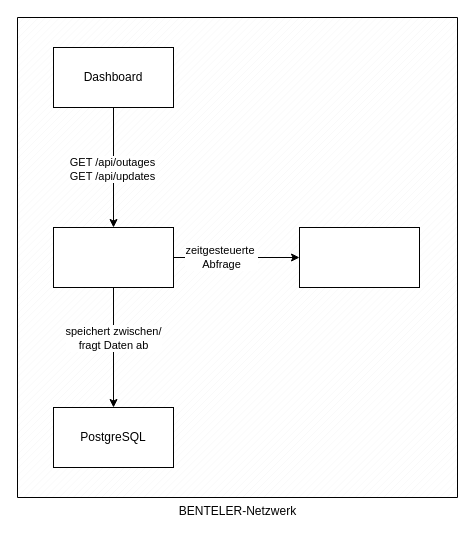
The diagram is 475 pixels wide and 536 high, and some of its shapes have lost their labels. The shapes that lost their labels are listed below. From the top down, each one's box as (x1, y1, x2, y2) in pixels, then its label:
(52, 226, 174, 288): Dashboard_Backend
(298, 226, 420, 288): Upstream-System
